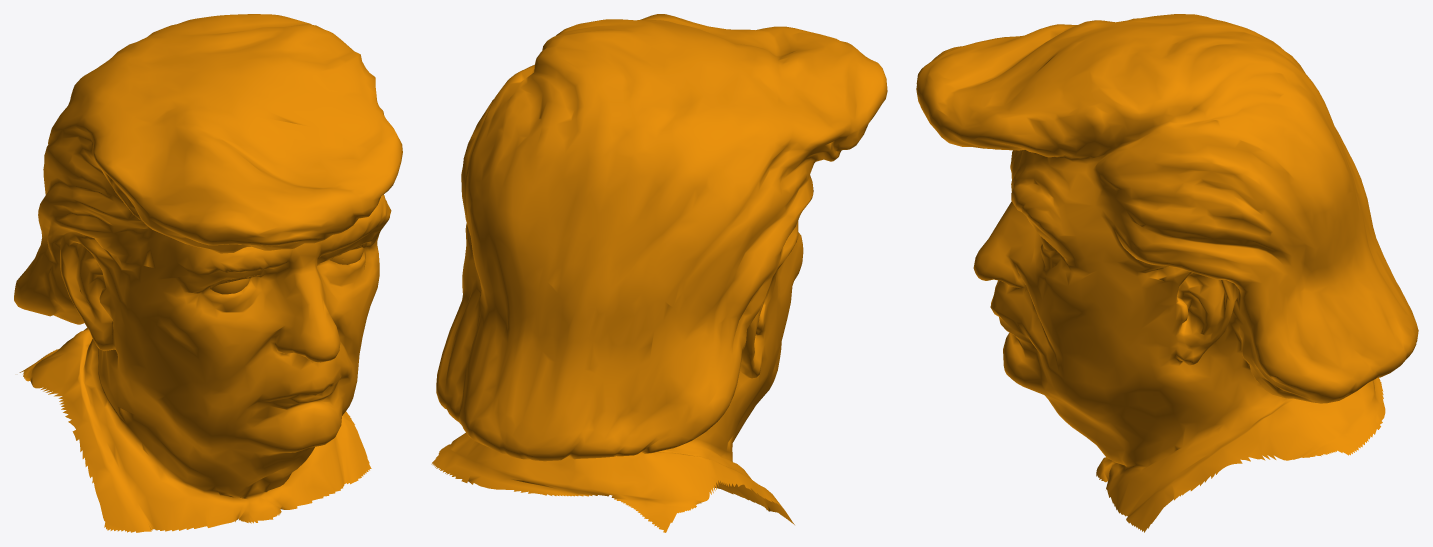
Rendered from djt2.glb.
The picture shows the model from 3 angles, left to right: view 1: azimuth 30°, elevation 25°; view 2: azimuth 150°, elevation 25°; view 3: azimuth 270°, elevation 25°; orthographic projection. The views are drawn at different scales.
Parts seen in each view (by area): view 1: uploads_files_5567468_DT+PET; view 2: uploads_files_5567468_DT+PET; view 3: uploads_files_5567468_DT+PET.
Boxes of the visible parts, <box> form: uploads_files_5567468_DT+PET: <box>14,14,402,532</box>; uploads_files_5567468_DT+PET: <box>431,14,887,532</box>; uploads_files_5567468_DT+PET: <box>916,14,1418,532</box>.
Size of the model in its own units: 1.81 by 2.58 by 2.69.
